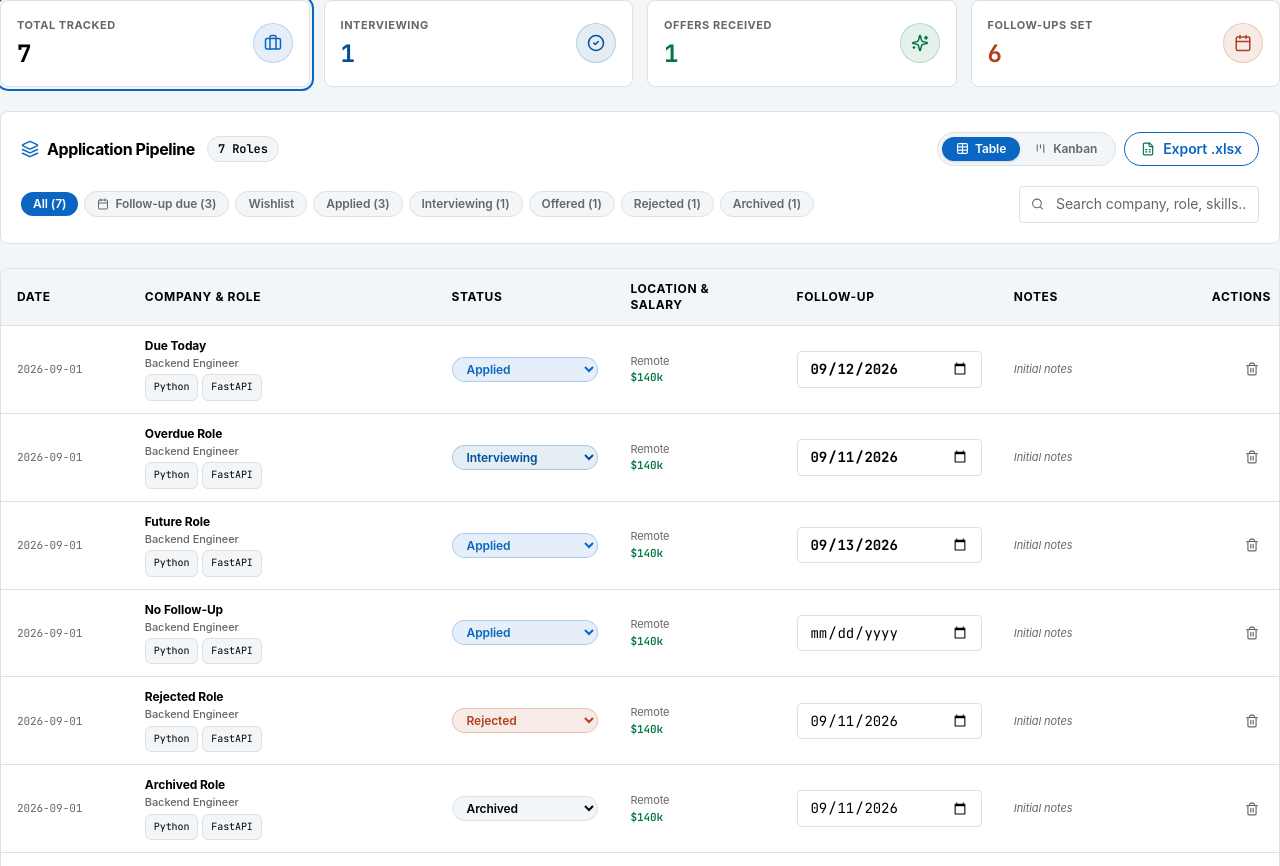
Test: ApplicationsTracker state synchronization and local dates (B12, B13, B15) › uses the Interviewing 1 card to replace existing filters and search
Click the button "Follow-up due (3)": (157, 204) [84, 192, 230, 218]
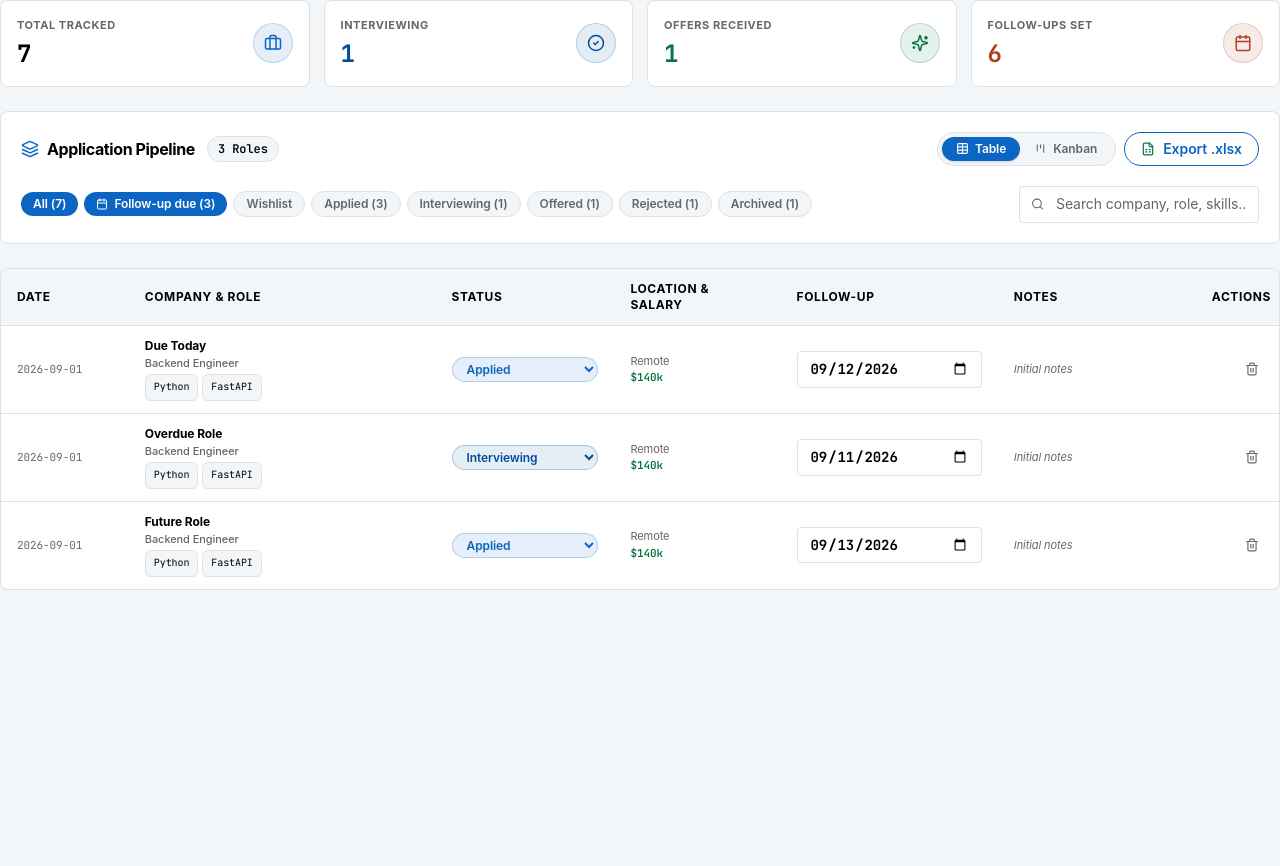
Click the button "Applied (3)": (356, 204) [311, 192, 401, 218]
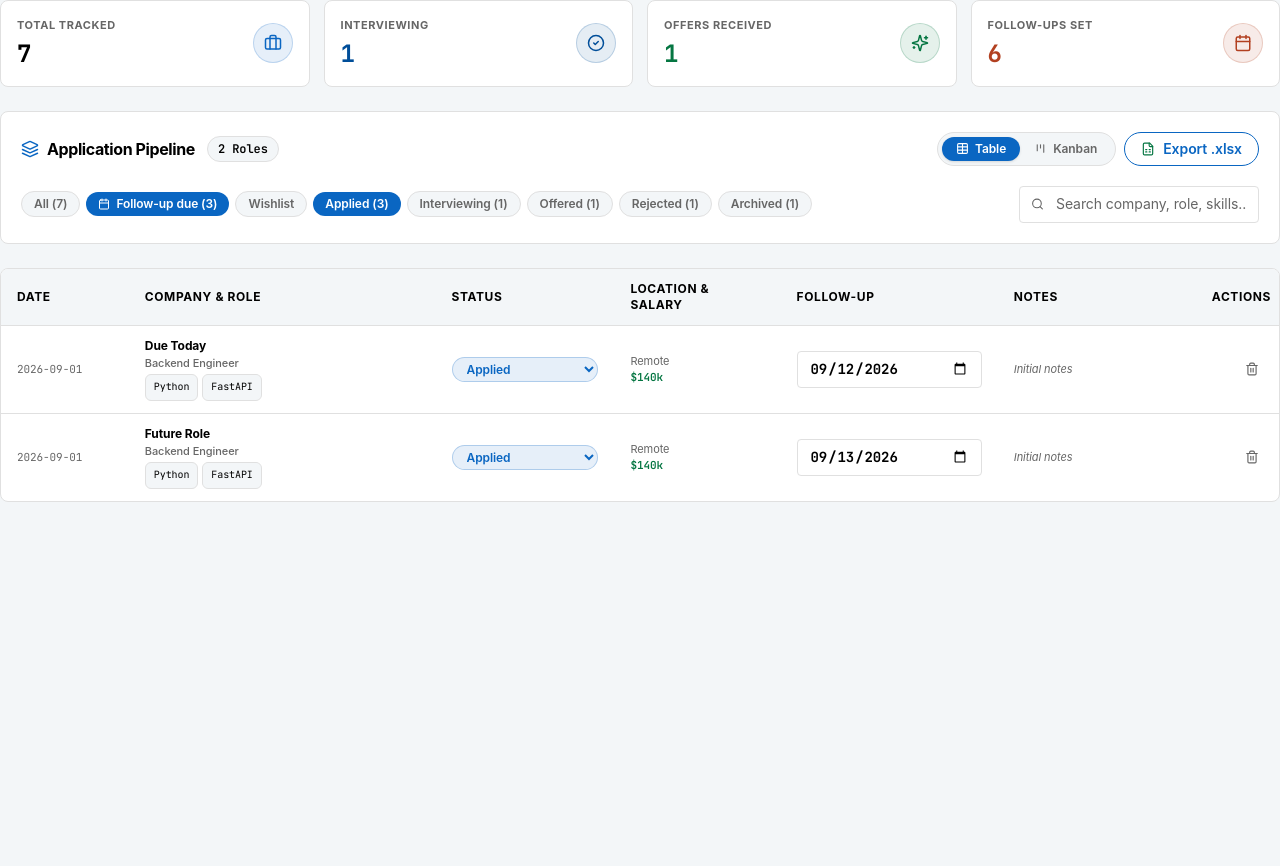
In the field with placeholder "Search company, role, skills...": (1139, 205) [1019, 186, 1259, 223], type "nonmatching search"
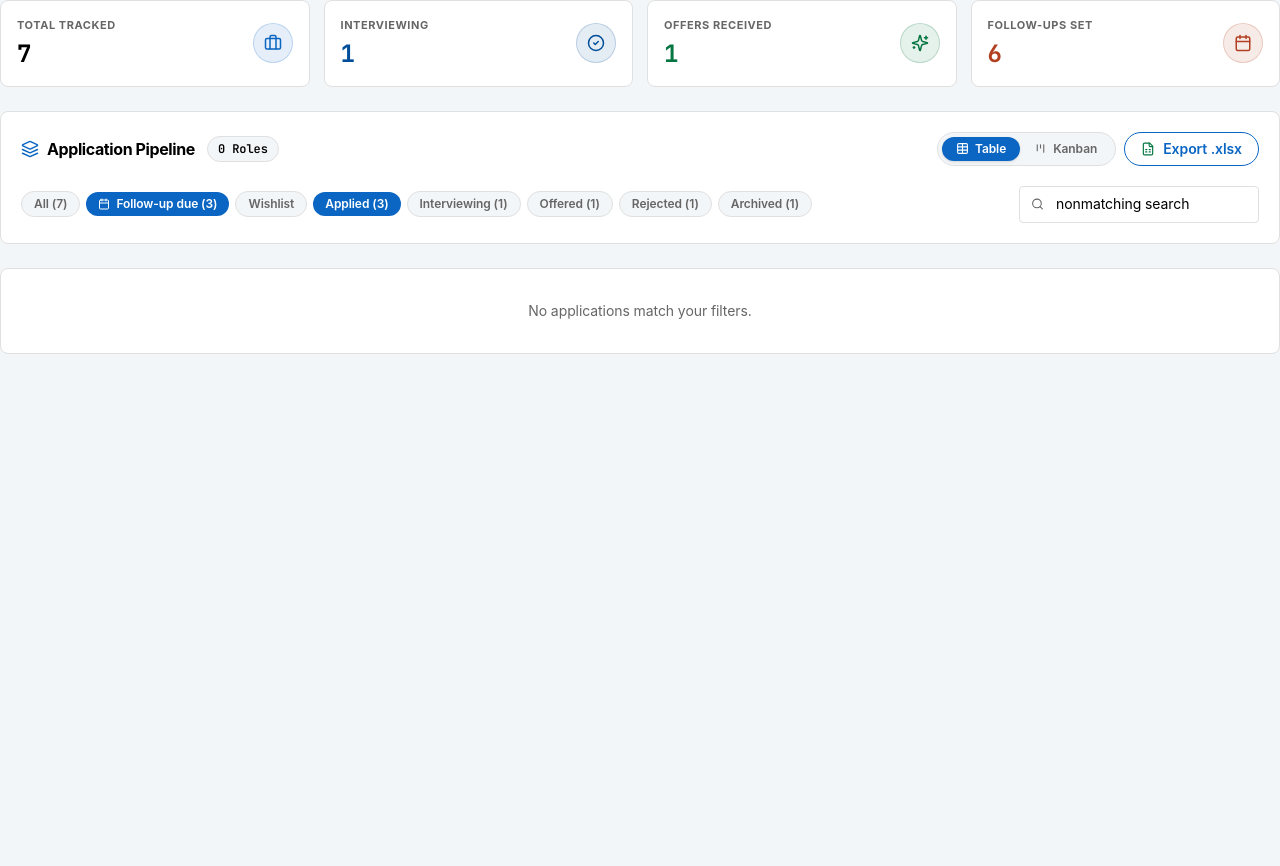
Click the button "Interviewing 1": (385, 25) [324, 0, 633, 86]
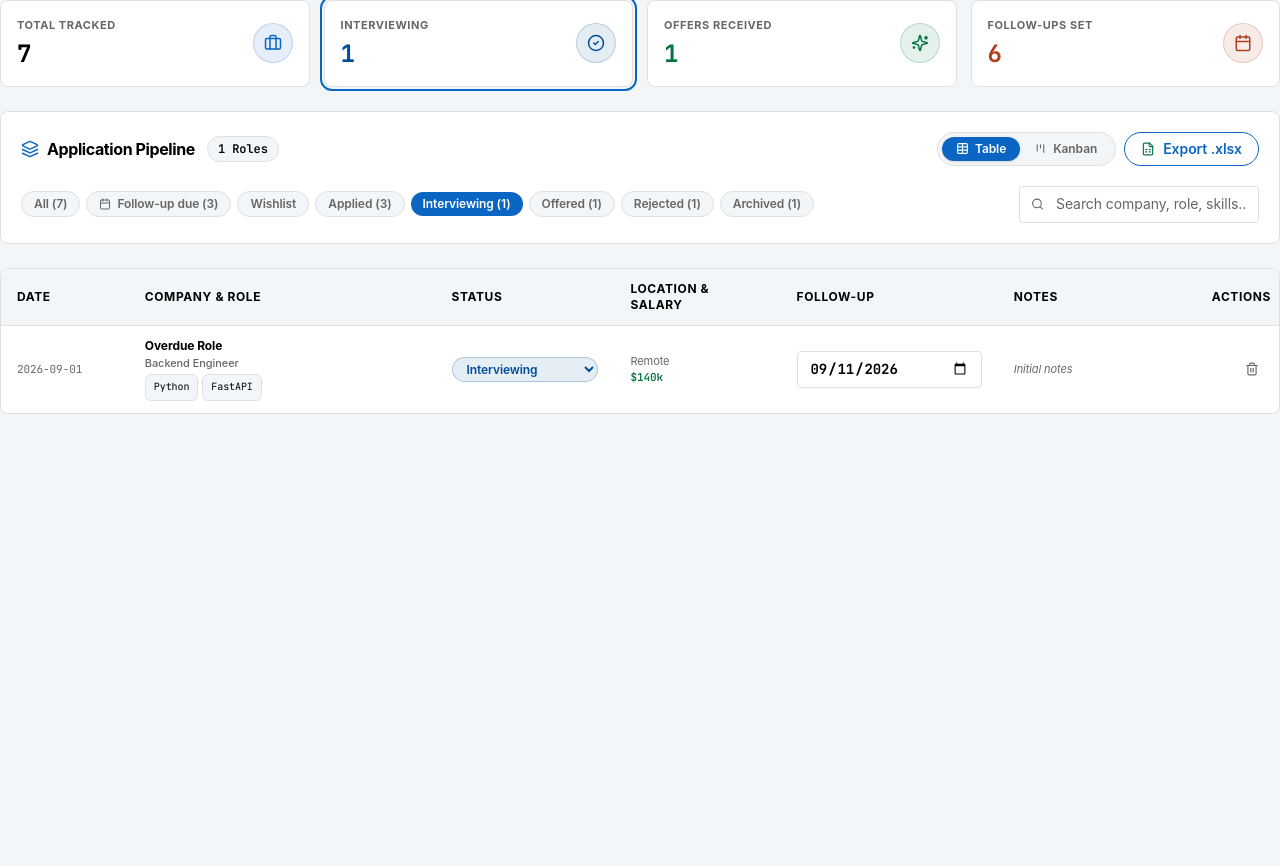
Expected: the text "Due Today" is not shown
Expected: the field with placeholder "Search company, role, skills..." is empty, [1019, 186, 1259, 223]
Expected: the text "Overdue Role" is shown, [145, 338, 222, 354]
